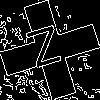Z: (25, 25, 67, 77)
